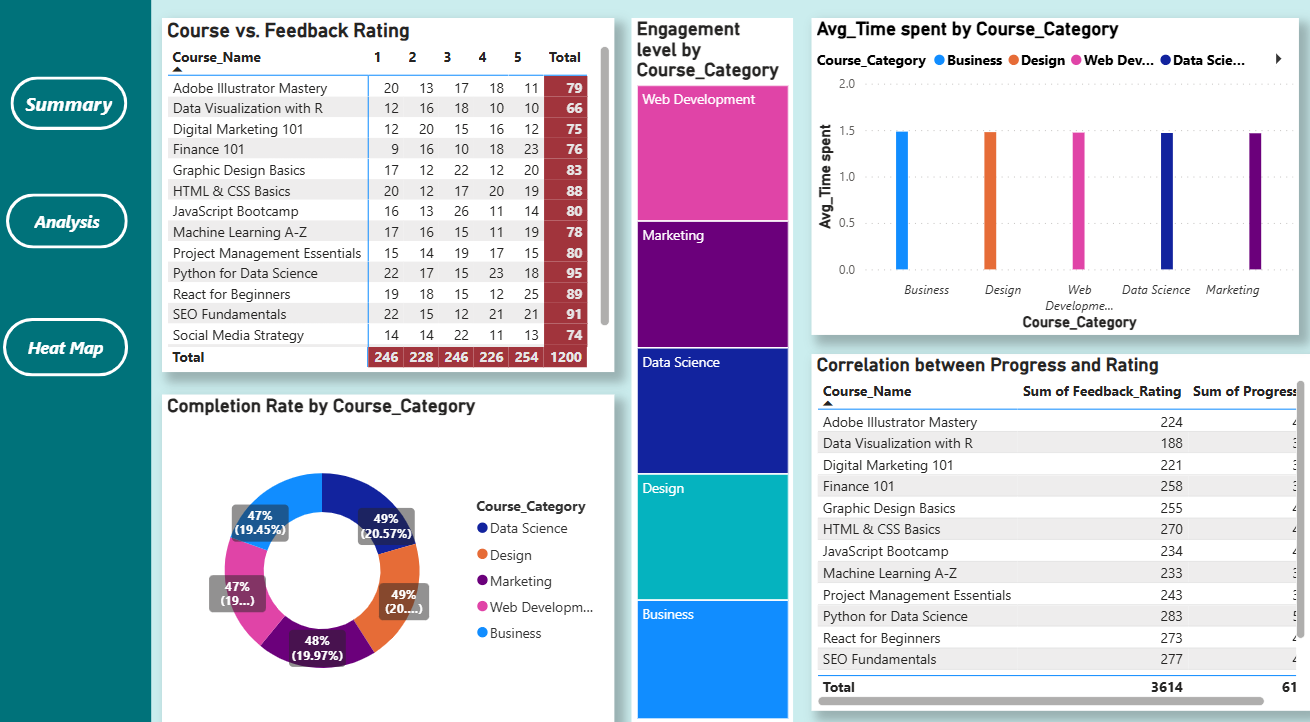

Layout of this report page (visuals, bound fields, positions):
{"tool":"powerbi","page":{"name":"Page 2","canvas":[1280,720],"ordinal":1},"visuals":[{"type":"pivotTable","title":"Course vs. Feedback Rating","fields":{"Columns":["Final.Feedback_Rating"],"Rows":["Final.Course_Name"],"Values":["CountNonNull(Final.Feedback_Rating)"]},"box":[166.4,34.8,438.8,343.5],"z":0},{"type":"tableEx","title":"Correlation between Progress and Rating","fields":{"Values":["Final.Course_Name","Sum(Final.Feedback_Rating)","Sum(Final.Progress (%))"]},"box":[796,360.8,483.8,346.2],"z":1000},{"type":"clusteredColumnChart","title":"Avg_Time spent by Course_Category ","fields":{"Y":["Final.Avg_Time spent"],"Category":["Final.Course_Category"],"Series":["Final.Course_Category"]},"box":[796,35.6,472.4,307.4],"z":2000},{"type":"donutChart","fields":{"Category":["Final.Course_Category"],"Y":["Final.Completion Rate"]},"box":[166.4,399.4,438.8,320.8],"z":3000},{"type":"treemap","title":" Engagement level by Course_Category","fields":{"Group":["Final.Course_Category"],"Values":["CountNonNull(Final.Engagement level)"]},"box":[621.3,35.6,156.9,684.4],"z":4000},{"type":"textbox","box":[0,0,155.3,720],"z":5000},{"type":"actionButton","box":[14.6,205.5,118.1,53.4],"z":6000},{"type":"actionButton","box":[11.3,325.2,121.3,56.6],"z":7000},{"type":"actionButton","box":[19.4,92.2,113.3,51.8],"z":8000}]}

Visuals, with their boxes on the page's 1280x720 design canvas (x1, y1, x2, y2). These are canvas units, not pixel positions in the 1310x722 screenshot, which may show the page scaled, cropped or inside an application window:
"Course vs. Feedback Rating" pivotTable: bbox=(166, 35, 605, 378)
"Correlation between Progress and Rating" tableEx: bbox=(796, 361, 1280, 707)
"Avg_Time spent by Course_Category " clusteredColumnChart: bbox=(796, 36, 1268, 343)
donutChart - Final.Course_Category x Final.Completion Rate: bbox=(166, 399, 605, 720)
" Engagement level by Course_Category" treemap: bbox=(621, 36, 778, 720)
textbox: bbox=(0, 0, 155, 720)
actionButton: bbox=(15, 206, 133, 259)
actionButton: bbox=(11, 325, 133, 382)
actionButton: bbox=(19, 92, 133, 144)
